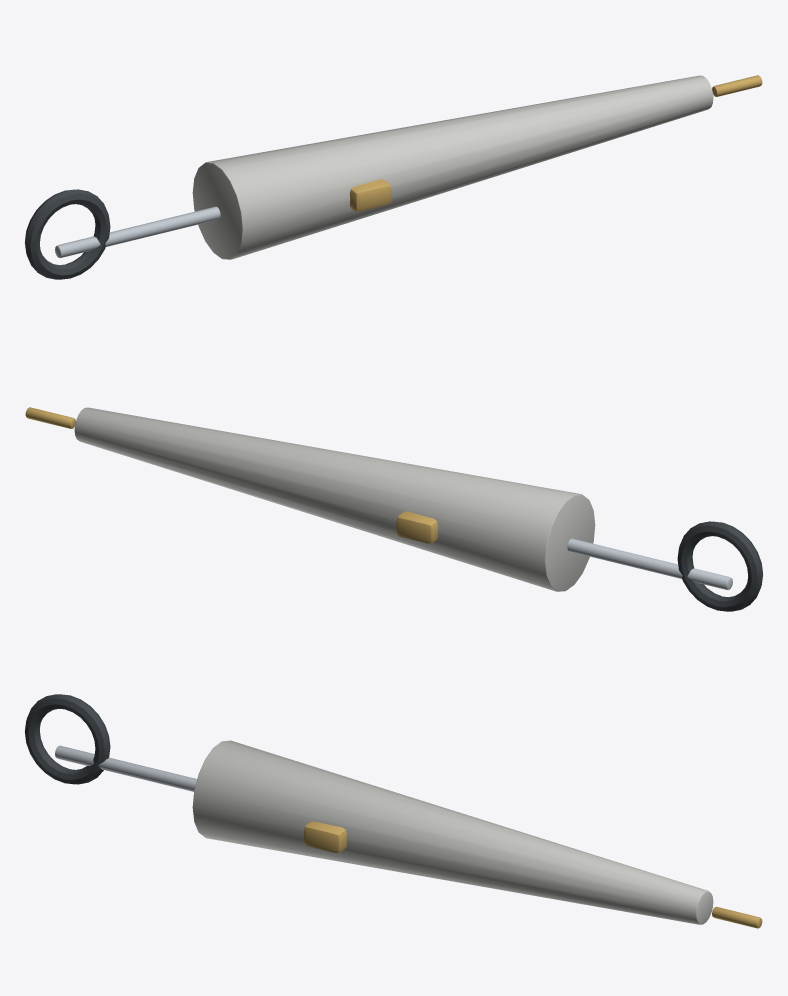
The model's file is checkout_product_umbrella.glb.
3 views of the same model, one above another, from view 1: azimuth 30°, elevation 25°; view 2: azimuth 150°, elevation 25°; view 3: azimuth 330°, elevation 25° (orthographic).
Visible parts, largest first — view 1: FoldedCanopy, UmbrellaCrook, UmbrellaShaft, UmbrellaKeeper, UmbrellaTip; view 2: FoldedCanopy, UmbrellaCrook, UmbrellaShaft, UmbrellaKeeper, UmbrellaTip; view 3: FoldedCanopy, UmbrellaCrook, UmbrellaShaft, UmbrellaKeeper, UmbrellaTip.
Part boxes in pixels (<box>): FoldedCanopy: <box>192,75,713,259</box>; UmbrellaCrook: <box>24,189,110,279</box>; UmbrellaShaft: <box>55,206,220,258</box>; UmbrellaKeeper: <box>349,179,391,211</box>; UmbrellaTip: <box>712,75,762,96</box>; FoldedCanopy: <box>74,407,595,591</box>; UmbrellaCrook: <box>677,521,763,611</box>; UmbrellaShaft: <box>567,538,732,590</box>; UmbrellaKeeper: <box>396,511,438,543</box>; UmbrellaTip: <box>25,407,75,428</box>; FoldedCanopy: <box>192,740,713,924</box>; UmbrellaCrook: <box>24,694,110,784</box>; UmbrellaShaft: <box>55,745,196,791</box>; UmbrellaKeeper: <box>304,821,346,852</box>; UmbrellaTip: <box>712,906,762,928</box>.
Size of the model in its own units: 0.8735 by 0.1161 by 0.112.
